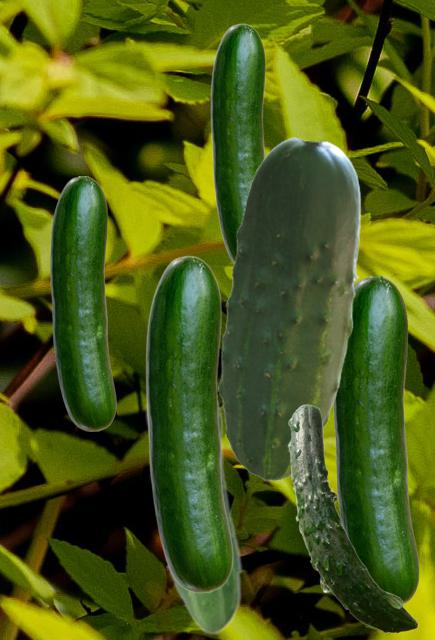cucumber: (218, 137, 360, 480), (287, 404, 417, 632), (145, 255, 232, 592), (333, 276, 418, 604), (145, 397, 242, 634), (50, 176, 115, 430), (210, 23, 266, 263)
